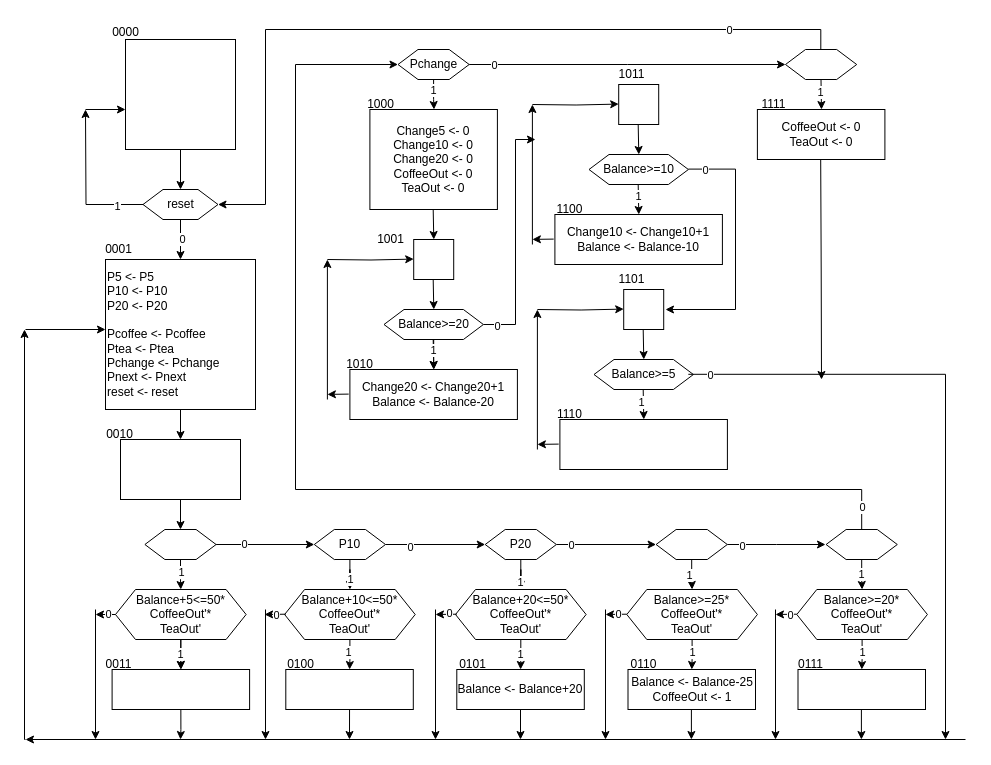
This 991x765 diagram has some shape labels left out. Each missing label, with the centre of its shape:
Balance <- Balance+10: the point at 349,689
Balance <- Balance+5: the point at 180,689
Balance <- Balance-20 TeaOut <- 1: the point at 861,689
Change5 <- Change5+1 Balance <- Balance-5: the point at 643,444
CoffeeOut <- 0 TeaOut <- 0 Change5 <- 0 Change10 <- 0 Change20 <- 0 Balance <- 0: the point at 180,94
P5: the point at 180,544
Pcoffee: the point at 691,544
Pnext: the point at 820,64
Ptea: the point at 861,544
